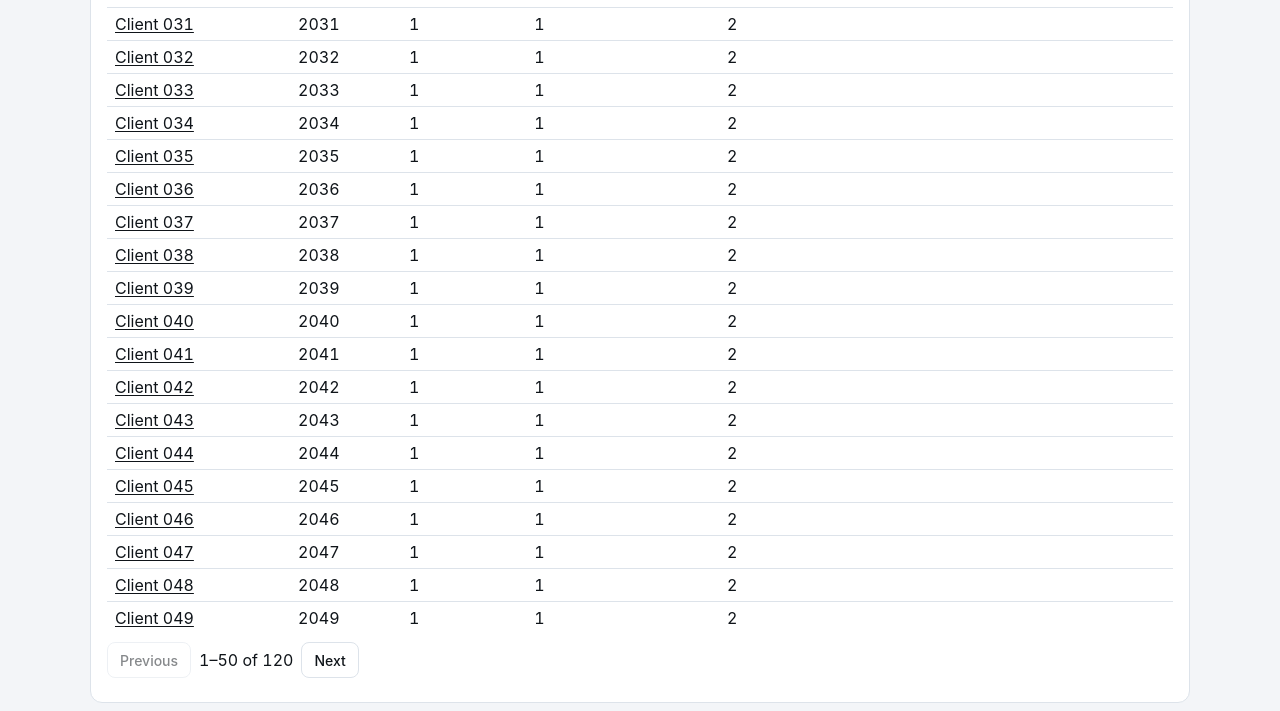
Test case: staff page › long client lists come a page at a time (P57)
(page scrolled)
expect the text "1–50 of 120" is shown: met, box [199,650,294,670]
expect the link "Client 050" is not shown: met
Click the button "Next". click: (330, 660)
box: [301,642,359,678]
(page scrolled)
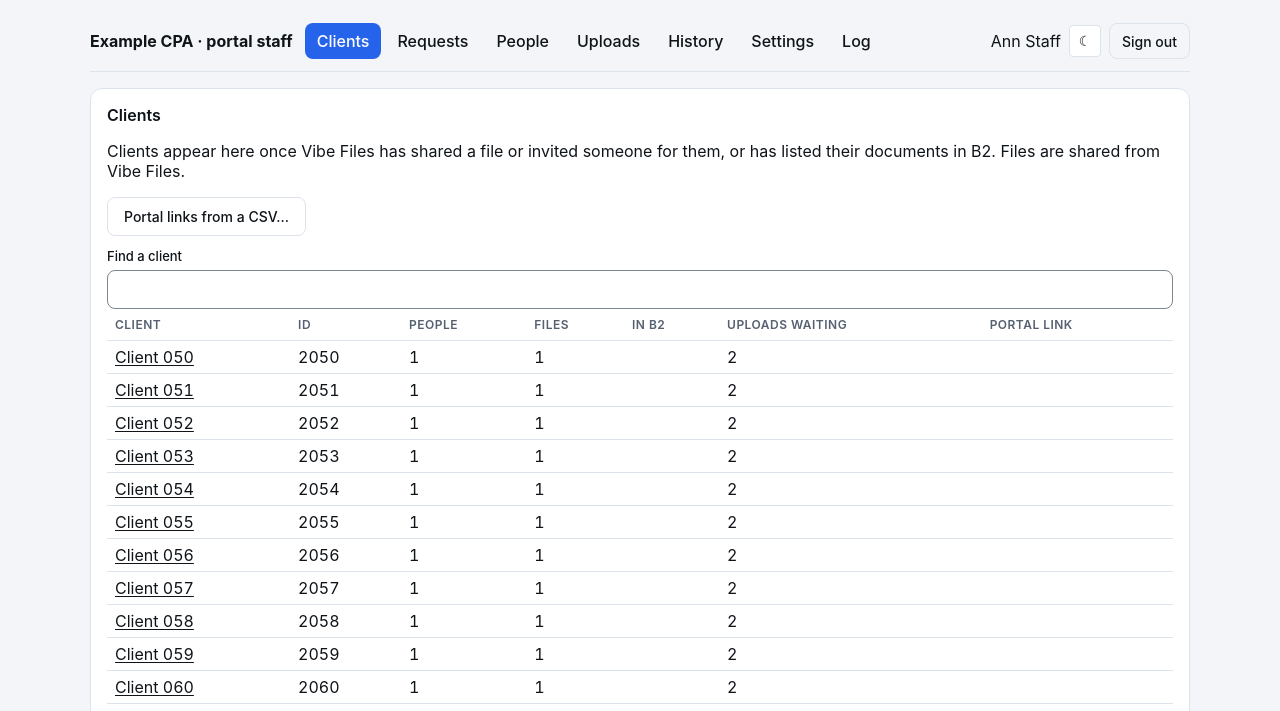
expect the link "Client 050" is shown: met, box [115,347,194,367]
# A search starts again at the first page.
Type "Client 11" into the field labelled "Find a client". click: (640, 290)
box: [107,270,1173,309]
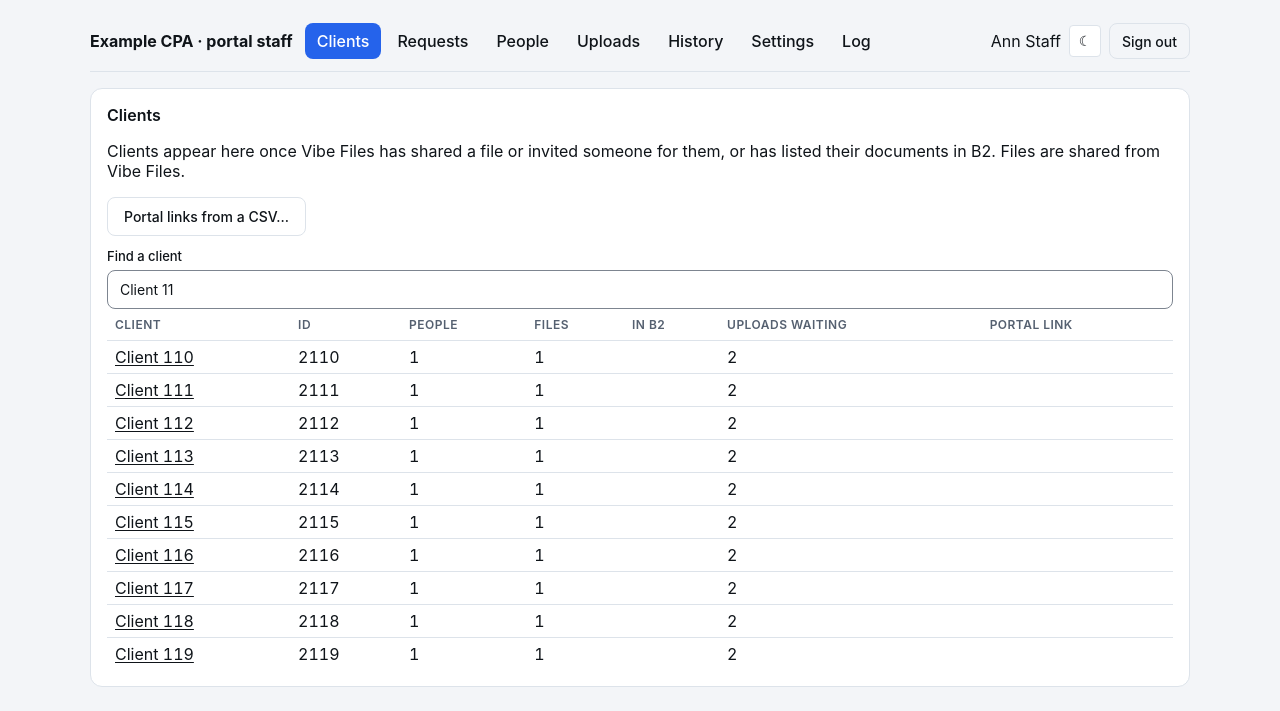
expect the text "of 120" is not shown: met
expect the link "Client 110" is shown: met, box [115,347,194,367]
